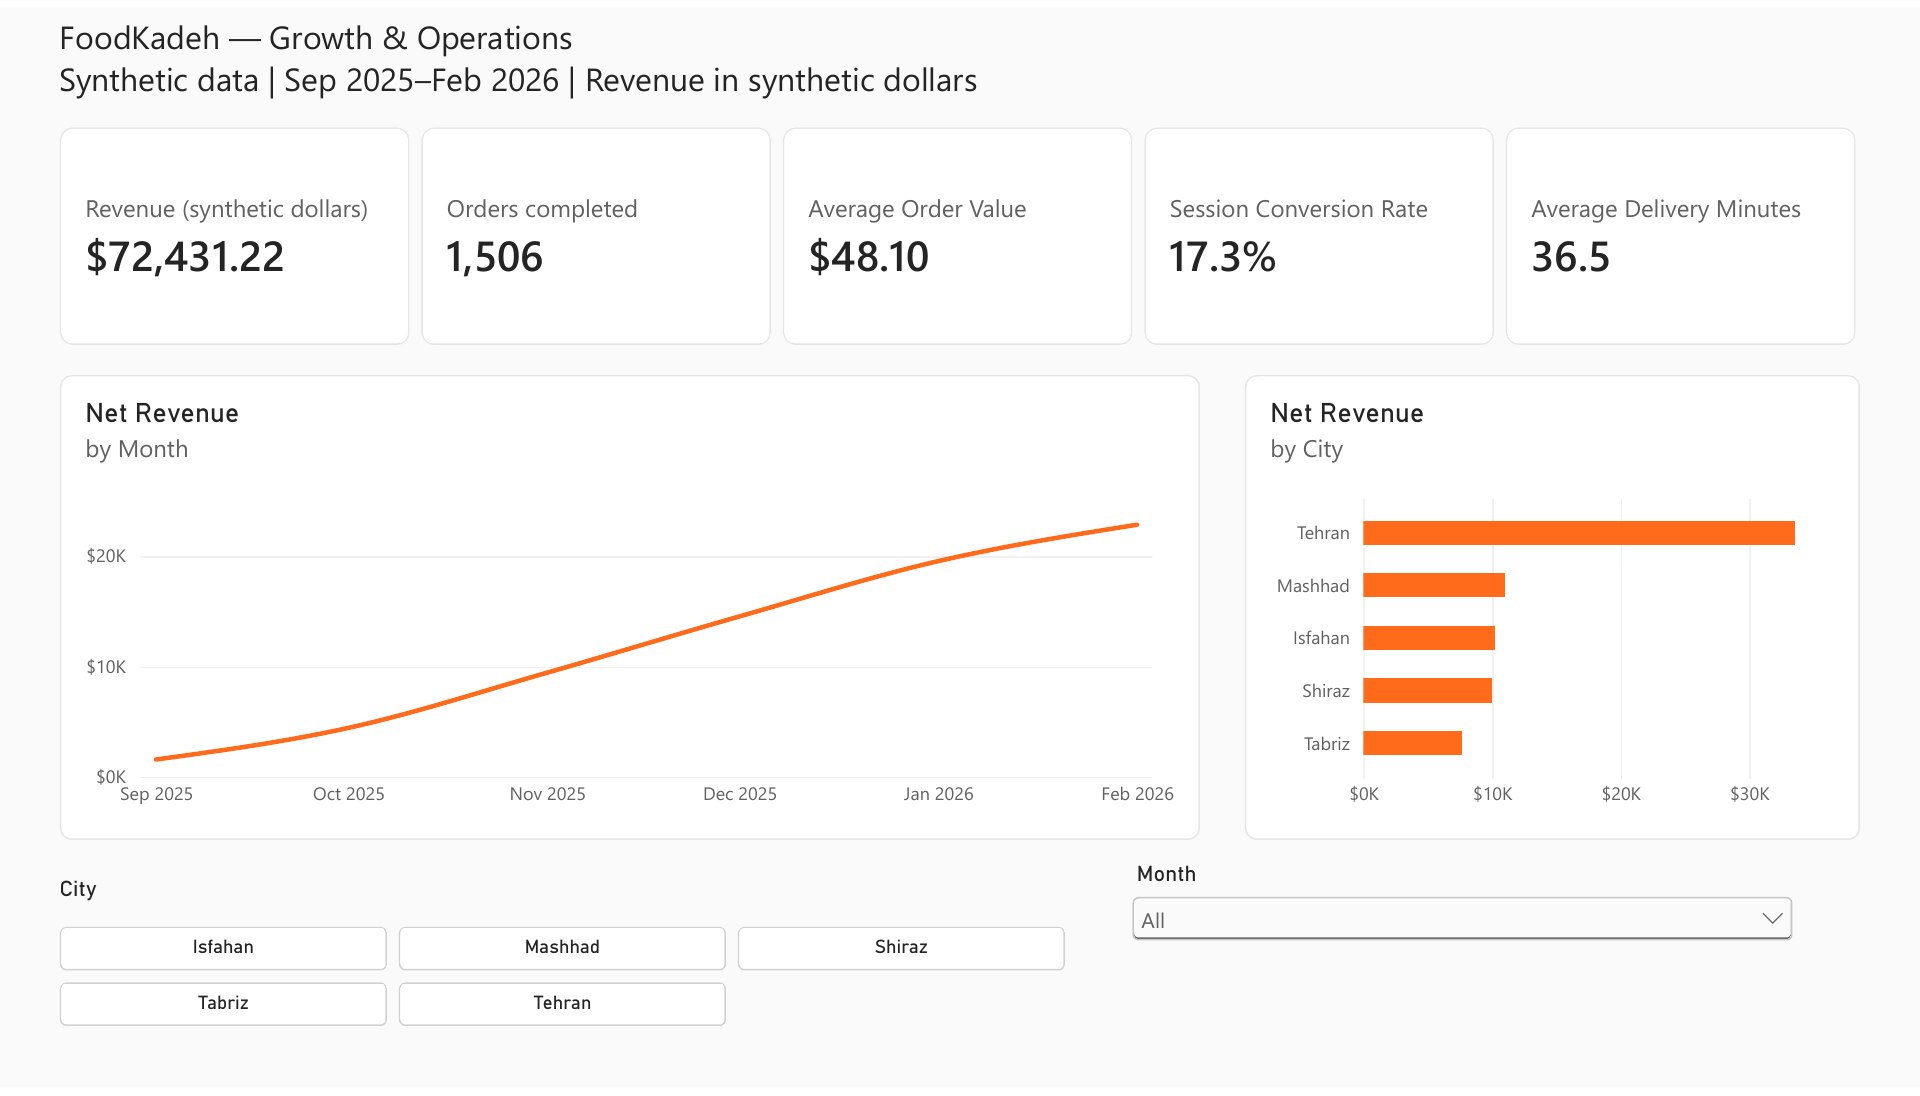

What the dashboard file says about the page in this screenshot:
{"tool":"powerbi","page":{"name":"Overview","canvas":[1280,720],"ordinal":0},"visuals":[{"type":"cardVisual","fields":{"Data":["MonthlyCity.Revenue (synthetic dollars)","MonthlyCity.Orders completed","MonthlyCity.Average Order Value","MonthlyCity.Session Conversion Rate","MonthlyCity.Average Delivery Minutes"]},"box":[40,80,1200,145],"z":0},{"type":"textbox","box":[40,5,1200,65],"z":1},{"type":"lineChart","fields":{"Category":["MonthlyCity.Month"],"Y":["MonthlyCity.Net Revenue"]},"box":[40,245,760,310],"z":2},{"type":"clusteredBarChart","fields":{"Category":["MonthlyCity.City"],"Y":["MonthlyCity.Net Revenue"]},"box":[830,245,410,310],"z":3},{"type":"advancedSlicerVisual","fields":{"Values":["MonthlyCity.City"]},"box":[40,580,670,100],"z":4},{"type":"slicer","fields":{"Values":["MonthlyCity.Month"]},"box":[750,570,450,120],"z":5}]}

Visuals, with their boxes in screenshot pixels (x1, y1, x2, y2), scaled from the page's 1280x720 canvas onto the 1920x1096 screenshot:
cardVisual - MonthlyCity.Revenue (synthetic dollars) x MonthlyCity.Orders completed: box=[60, 122, 1860, 342]
textbox: box=[60, 8, 1860, 107]
lineChart - MonthlyCity.Month x MonthlyCity.Net Revenue: box=[60, 373, 1200, 845]
clusteredBarChart - MonthlyCity.City x MonthlyCity.Net Revenue: box=[1245, 373, 1860, 845]
advancedSlicerVisual - MonthlyCity.City: box=[60, 883, 1065, 1035]
slicer - MonthlyCity.Month: box=[1125, 868, 1800, 1050]
